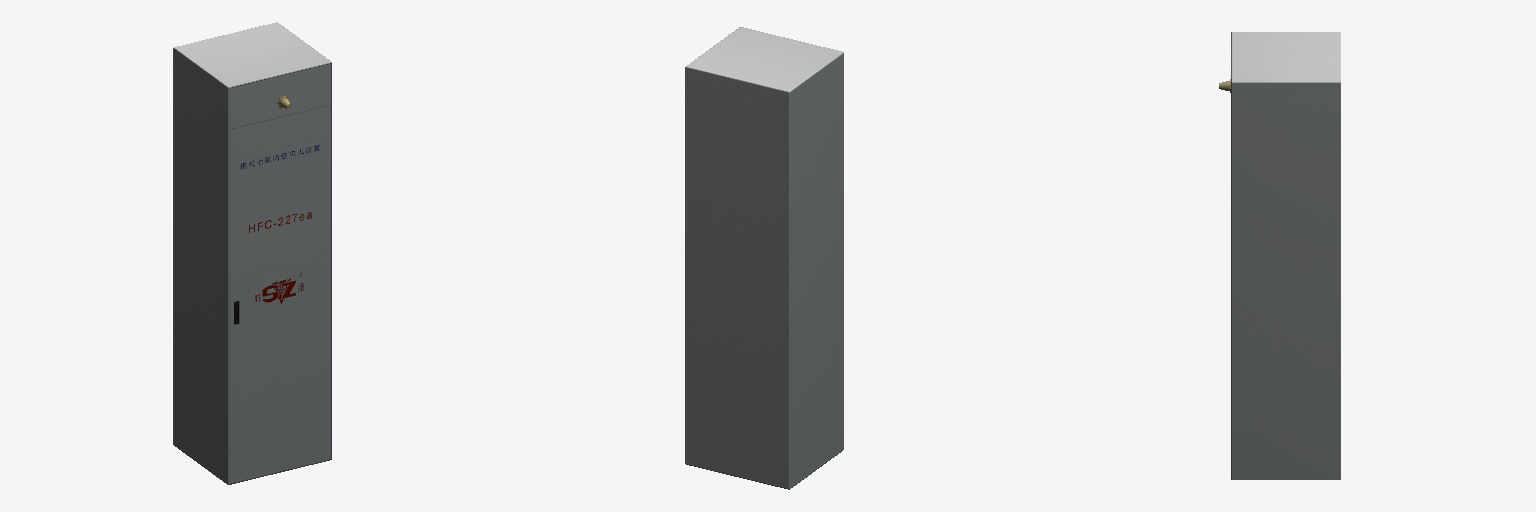
3 renders of one model, left to right at view 1: azimuth 30°, elevation 25°; view 2: azimuth 150°, elevation 25°; view 3: azimuth 270°, elevation 25°, orthographic.
Parts seen in each view (by area): view 1: ChamferBox57; view 2: ChamferBox57; view 3: ChamferBox57.
Boxes of the visible parts, x1=… form: ChamferBox57: x1=173, y1=22, x2=331, y2=484; ChamferBox57: x1=685, y1=27, x2=843, y2=489; ChamferBox57: x1=1231, y1=32, x2=1340, y2=479.
Bounding box in the file's own units: 55 × 200 × 55.72.
2 materials, 2 textured.